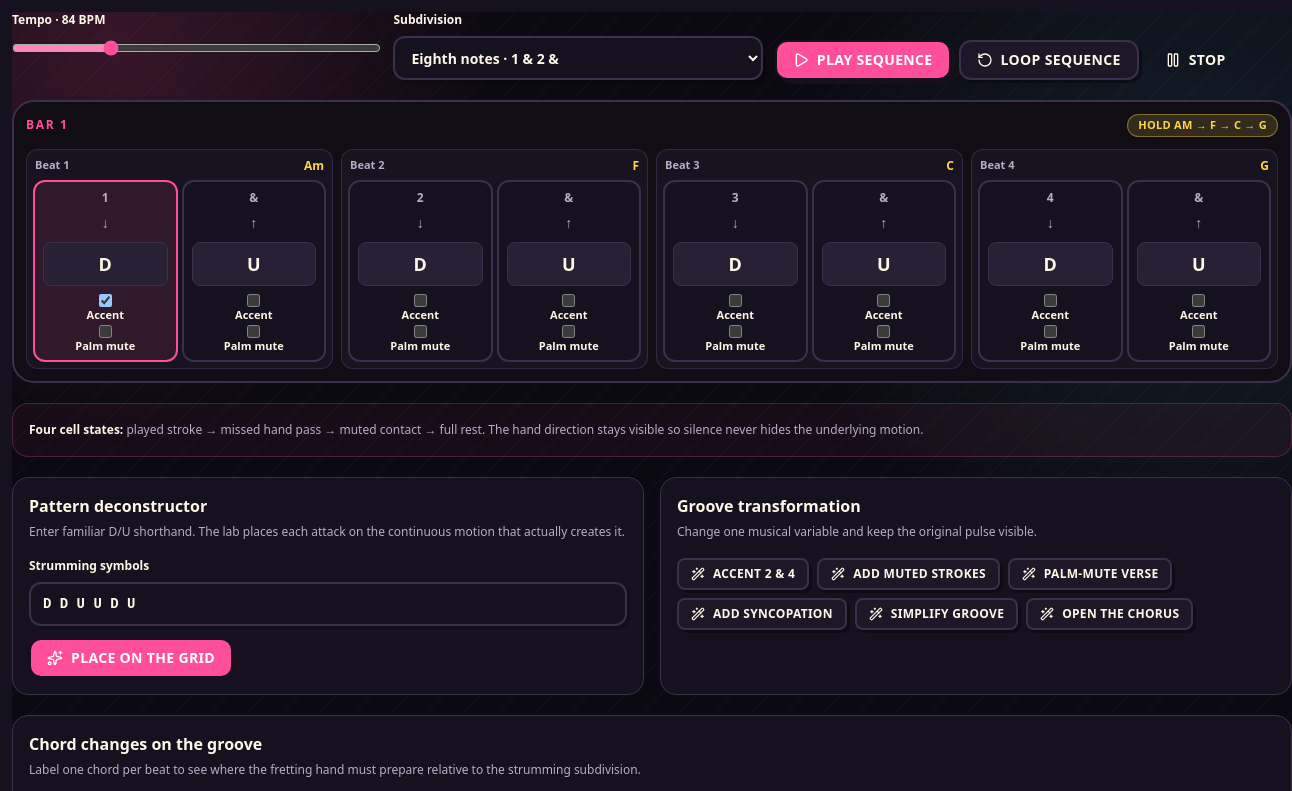
Scenario: RhythmLab › changes subdivision and explains a groove transformation
The width and height of the screenshot is (1292, 791).
Select "Sixteenths · 1-e-&-a" in the dropdown labelled "Subdivision" at (578, 58), box 393,36 -> 763,80
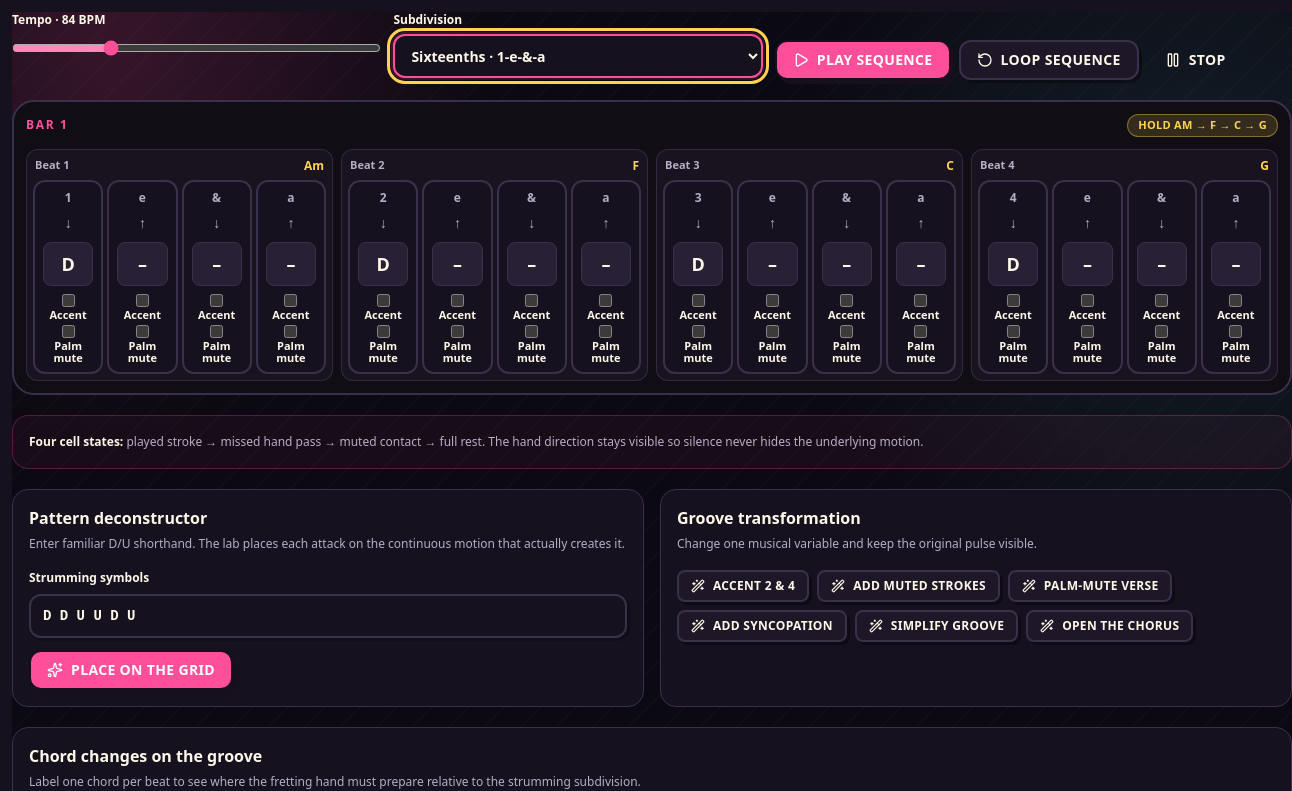
Check: the element named "16-step rhythm grid" is shown, box 12,100 -> 1291,394
Click the button "Add syncopation" at (762, 626), box 677,610 -> 847,642
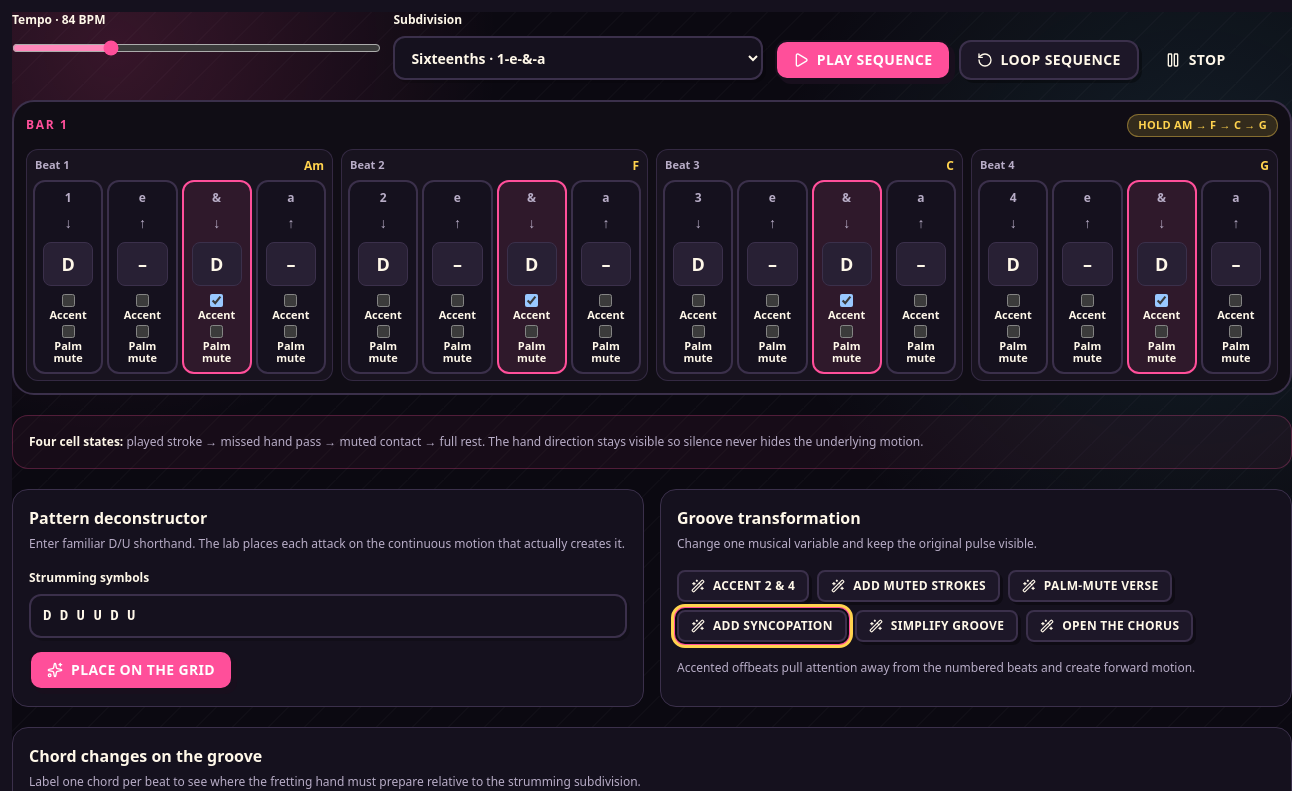
Check: the message shows "Accented offbeats", box 677,658 -> 1195,676
